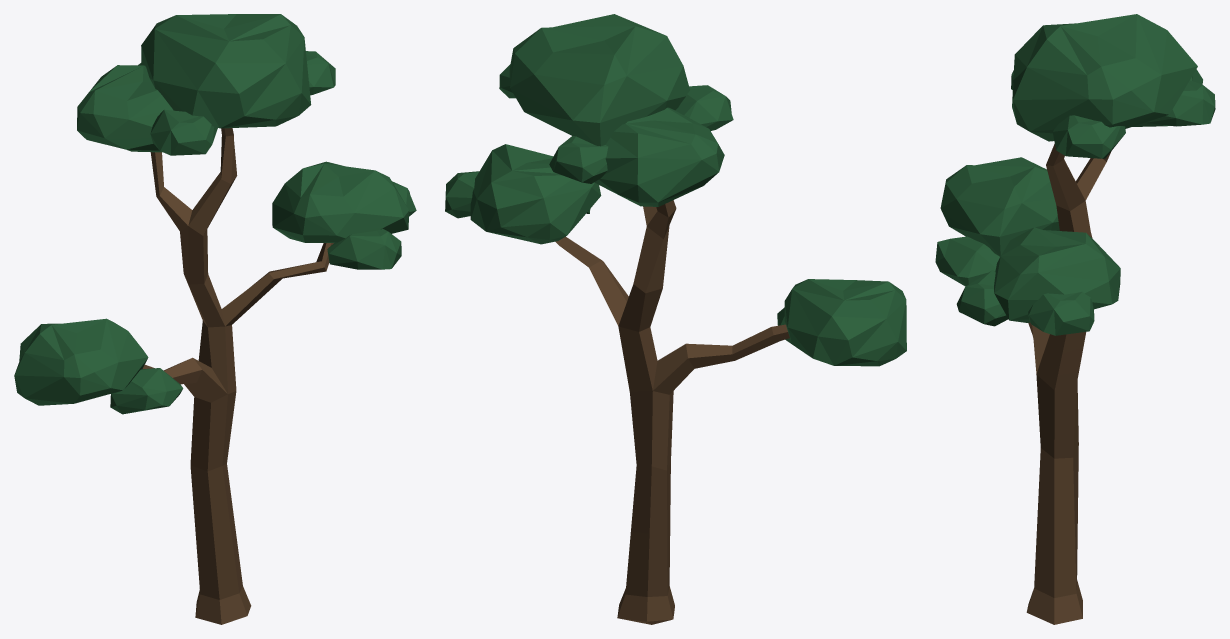
Rendered from tree6.fbx.
3 renders of one model, left to right at view 1: azimuth 30°, elevation 25°; view 2: azimuth 150°, elevation 25°; view 3: azimuth 270°, elevation 25°, orthographic. The views are drawn at different scales.
Parts seen in each view (by area): view 1: polySurface2905; view 2: polySurface2905; view 3: polySurface2905.
Part boxes in pixels (x1,y1,x2,y2): polySurface2905: (14, 14, 416, 624); polySurface2905: (445, 14, 906, 624); polySurface2905: (935, 14, 1215, 624).
Size of the model in its own units: 478 by 636 by 268.
